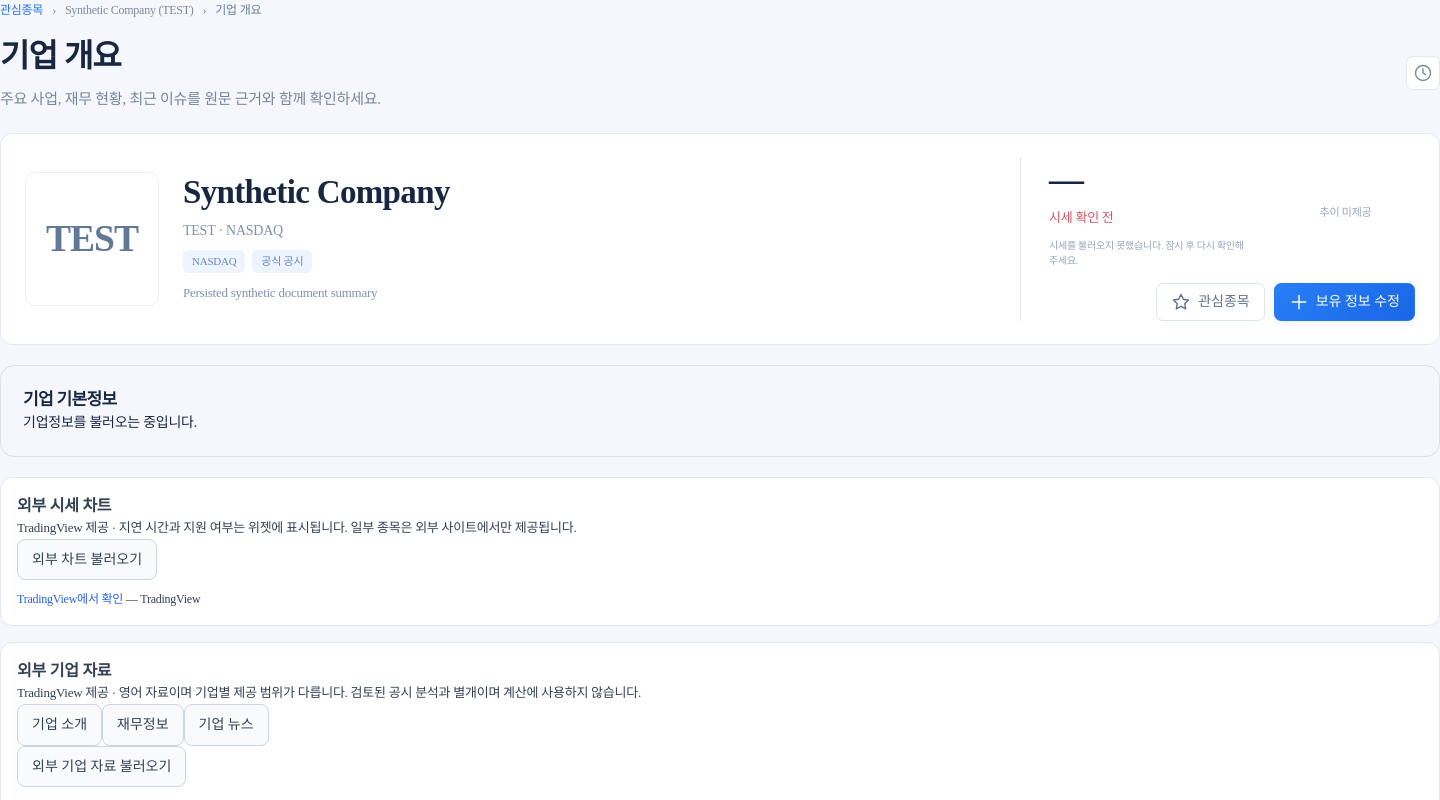
desktop company and timeline › prefills exponent amounts exactly and keeps a denied edit until the API saves it
Click the button "보유 정보 수정" at [1344, 302], box [1274, 283, 1415, 321]
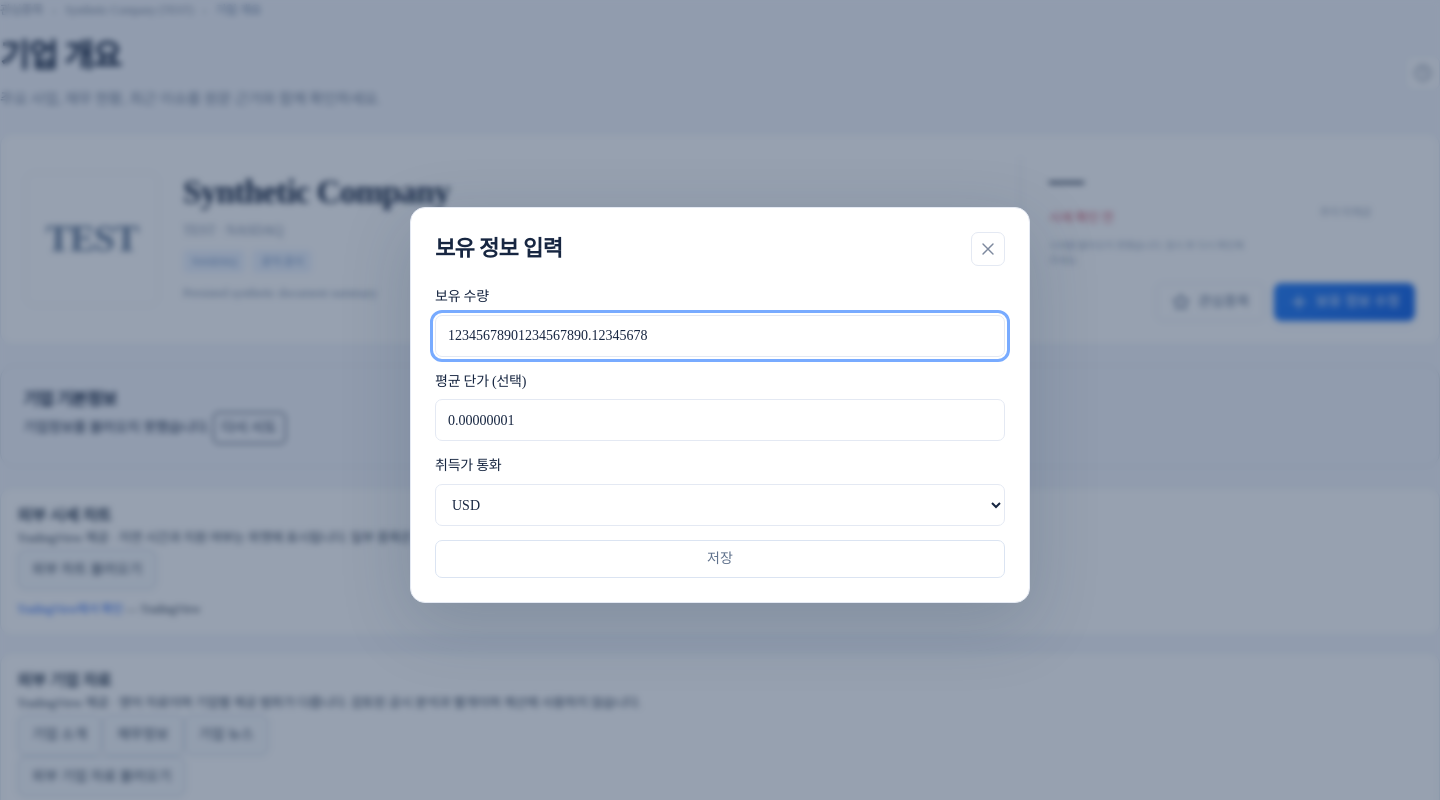
Check: the field labelled "보유 수량" holds "12345678901234567890.12345678"
Check: the field labelled "평균 단가 (선택)" holds "0.00000001", box [435, 399, 1005, 441]
Check: the button "저장" is enabled, box [435, 540, 1005, 578]
Replace the text in the field labelled "보유 수량" with "99999999999999999999.12345678" at [720, 336], box [435, 315, 1005, 357]
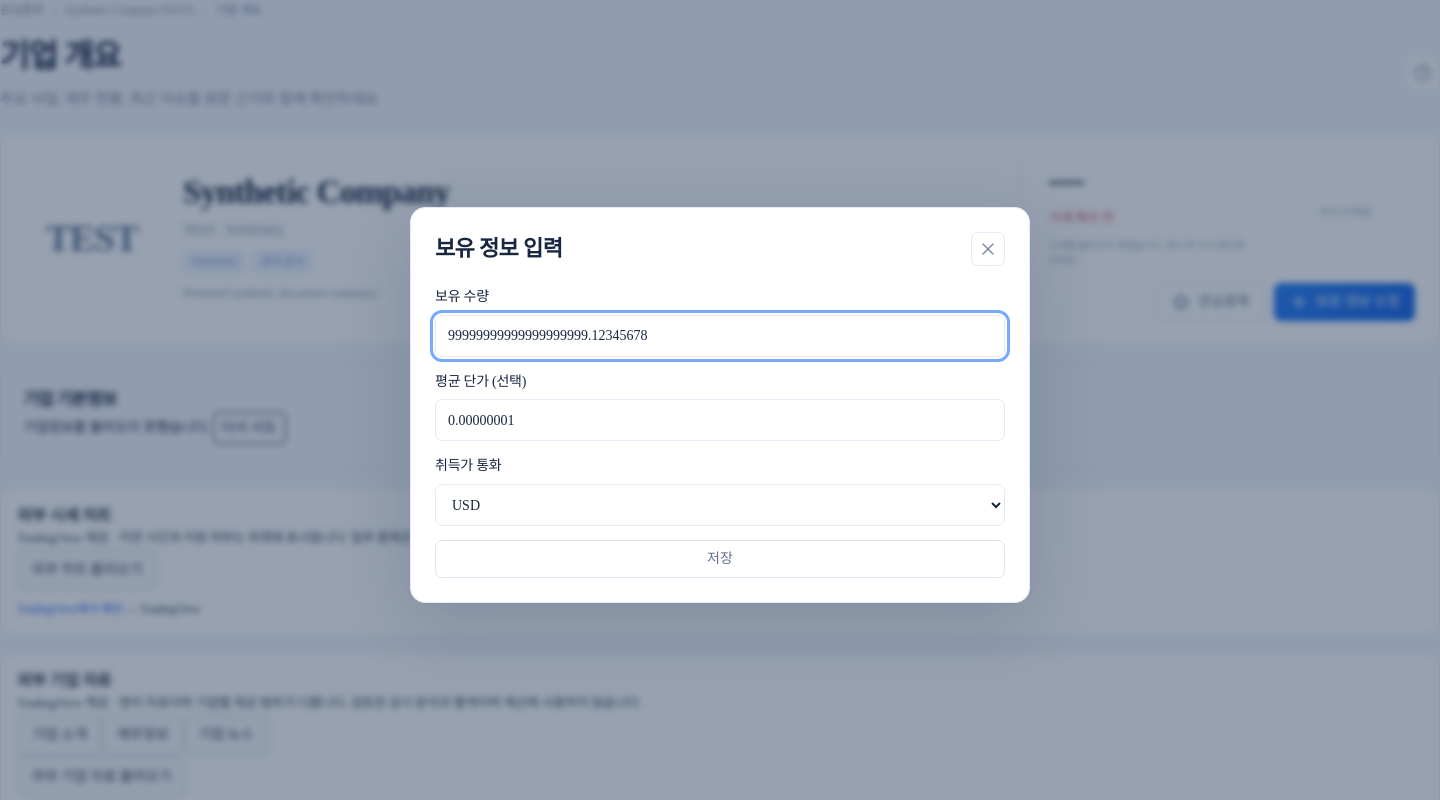
Click the button "저장" at [720, 559], box [435, 540, 1005, 578]
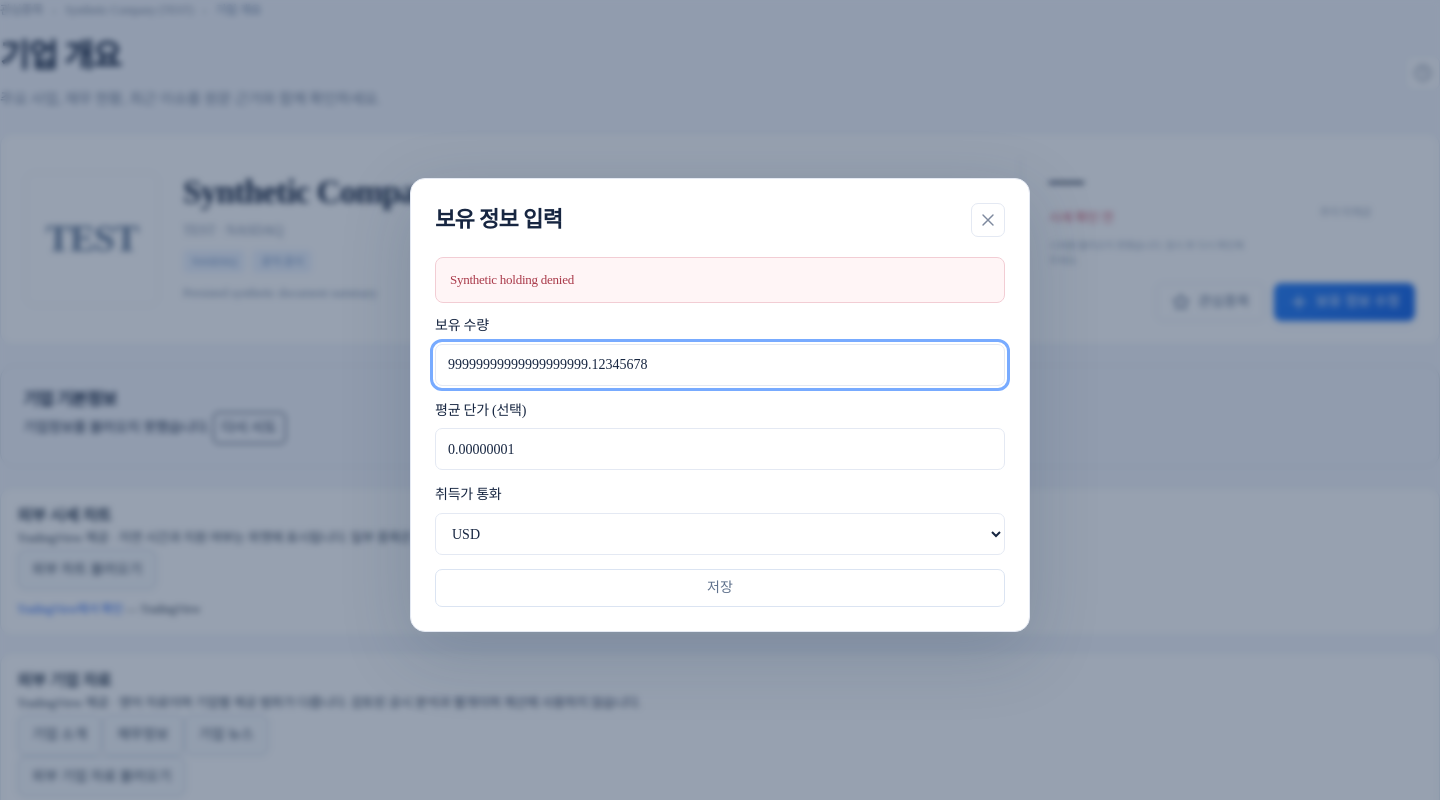
Check: the message reads "Synthetic holding denied", box [450, 272, 574, 287]
Click the button "저장" at [720, 588], box [435, 569, 1005, 607]
(page scrolled)
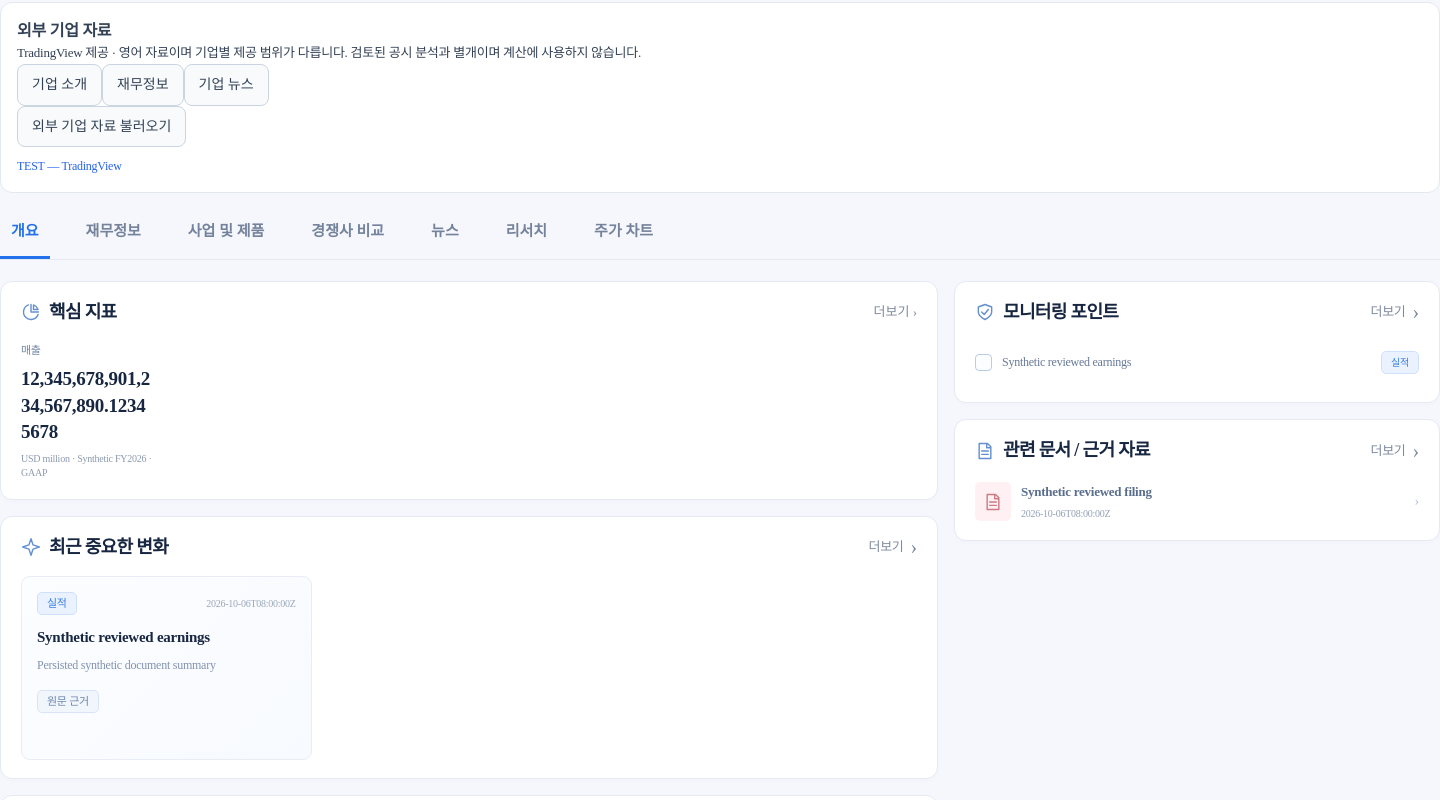
Check: the text "12,345,678,901,234,567,890.12345678" is shown, box [21, 366, 153, 446]
Check: the dialog is gone
